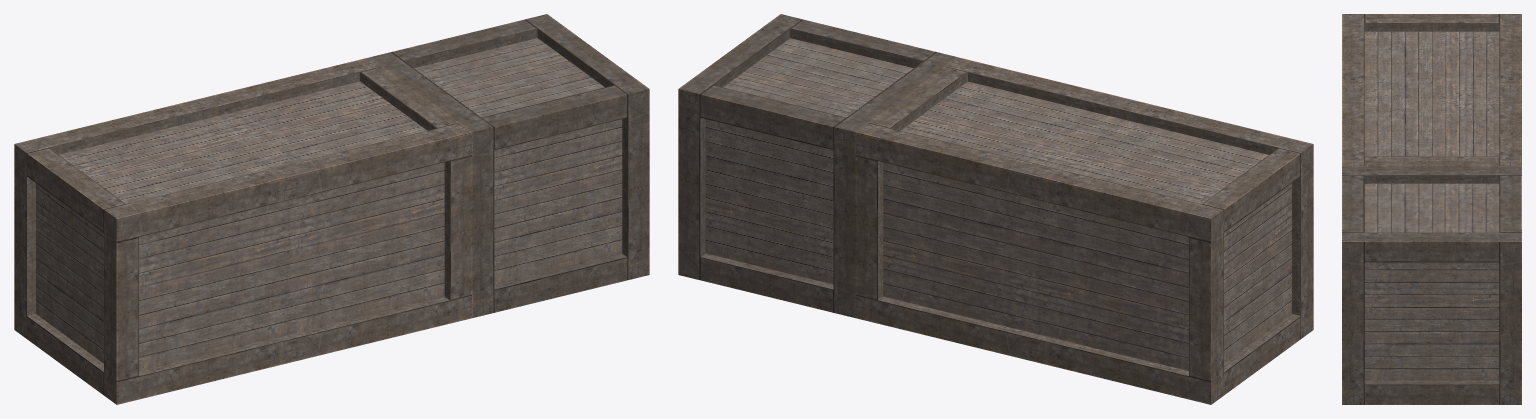
The model's file is Kisten.fbx.
The picture shows the model from 3 angles, left to right: view 1: azimuth 30°, elevation 25°; view 2: azimuth 150°, elevation 25°; view 3: azimuth 270°, elevation 25°; orthographic projection. The views are drawn at different scales.
Visible parts, largest first — view 1: pCube16, pCube15; view 2: pCube16, pCube15; view 3: pCube15, pCube16.
Part boxes in pixels (x1,y1,x2,y2): pCube16: (14, 57, 471, 404); pCube15: (370, 14, 649, 318); pCube16: (856, 57, 1313, 404); pCube15: (678, 14, 957, 318); pCube15: (1342, 166, 1521, 404); pCube16: (1342, 14, 1521, 165).
Bounding box in the file's own units: 3 × 1 × 1.
